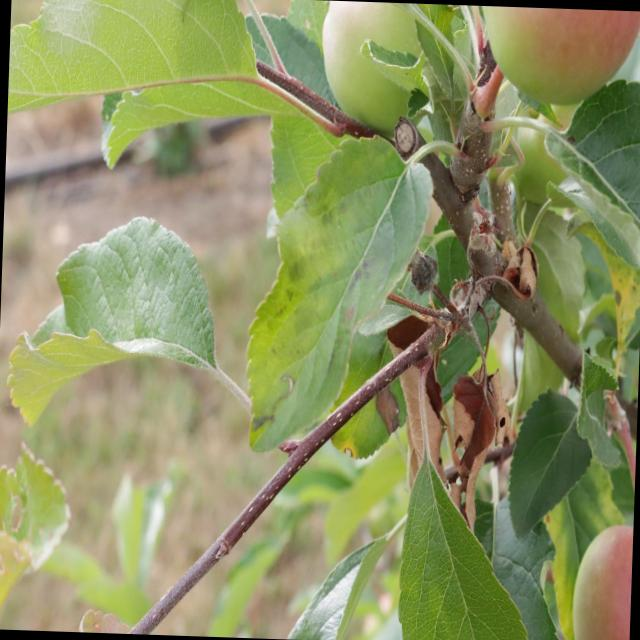-FireBlight-: (388, 315, 503, 519), (497, 258, 536, 303)
